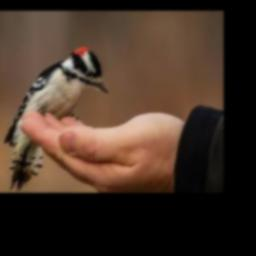Woodpecker: (4, 46, 108, 192)
